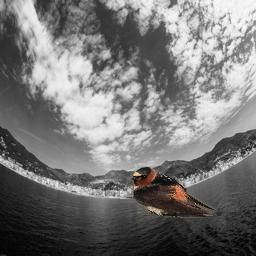Swallow: (130, 166, 217, 218)
